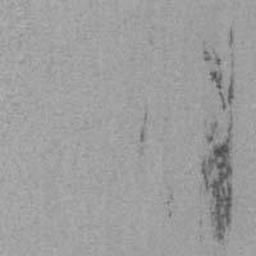Inclusion: (198, 40, 236, 244), (140, 109, 150, 145), (228, 27, 236, 47), (230, 52, 236, 72), (168, 191, 174, 201), (198, 219, 204, 229), (168, 209, 173, 219)
